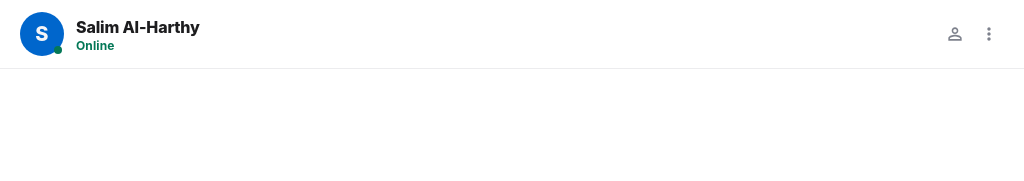
Test: Messaging, Conversations & Real-Time Chat Experience (Prompt 20/50) › ChatHeader Component › opens options menu on click
Click the button named "Conversation options" at (989, 34), box x1=974 y1=19 x2=1004 y2=49
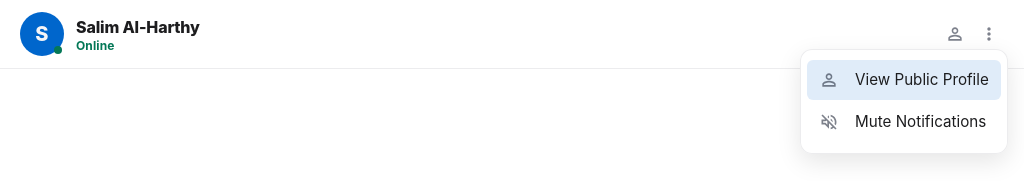
Check: the text "View Public Profile" is shown, box x1=855 y1=68 x2=989 y2=92
Check: the text "Mute Notifications" is shown, box x1=855 y1=110 x2=989 y2=135
